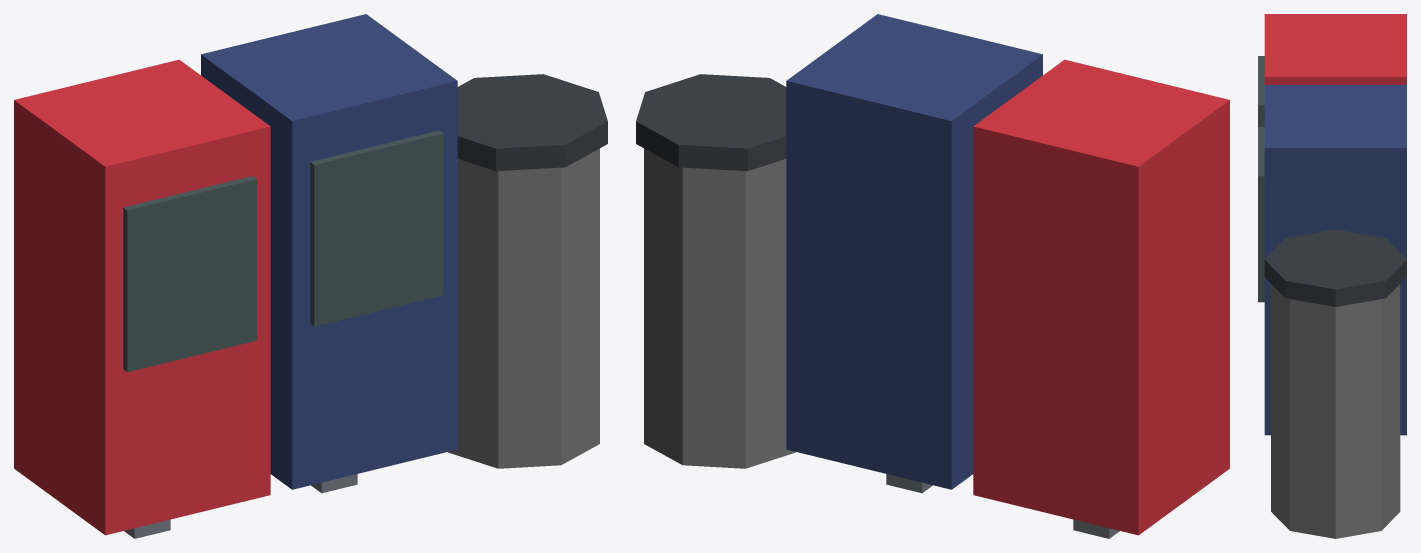
File: site_clutter3.fbx
3 views of the same model, side by side, from view 1: azimuth 30°, elevation 25°; view 2: azimuth 150°, elevation 25°; view 3: azimuth 270°, elevation 25° (orthographic). The views are drawn at different scales.
Parts seen in each view (by area): view 1: a2020/0/site_clutter3; view 2: a2020/0/site_clutter3; view 3: a2020/0/site_clutter3.
Boxes of the visible parts, x1,y1,x2,y2 form: a2020/0/site_clutter3: (14, 14, 607, 538); a2020/0/site_clutter3: (636, 14, 1229, 538); a2020/0/site_clutter3: (1258, 14, 1406, 538).
Size of the model in its own units: 1.5 by 1.1 by 0.46.
